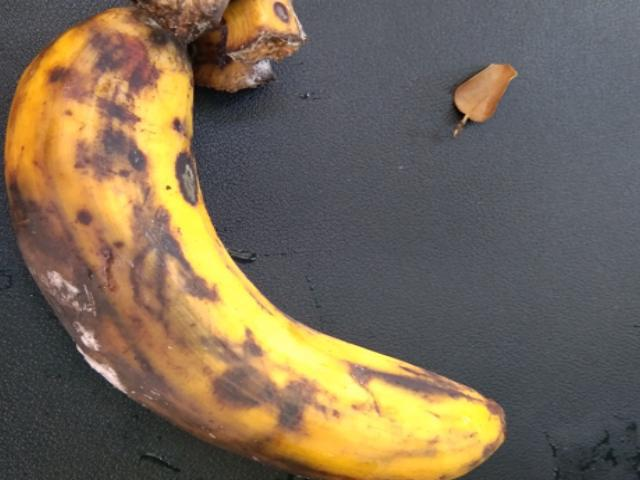overripe: (25, 17, 532, 479)
rotten: (28, 173, 302, 479)
